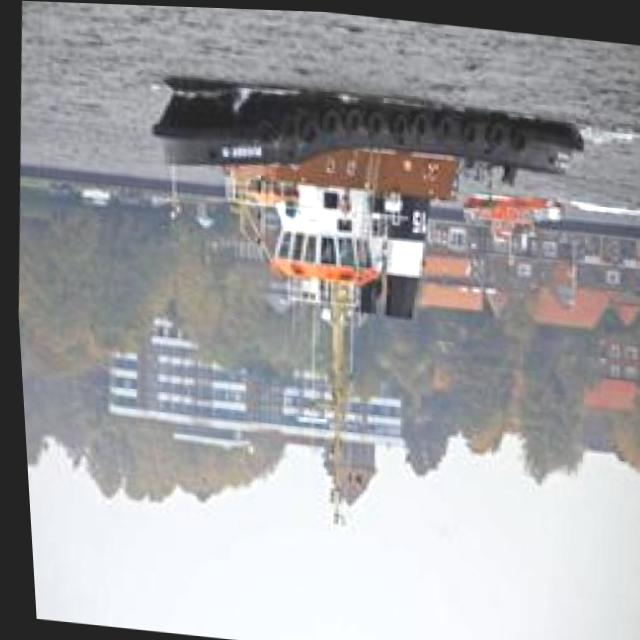ship2: (148, 75, 582, 481), (459, 188, 560, 235)
